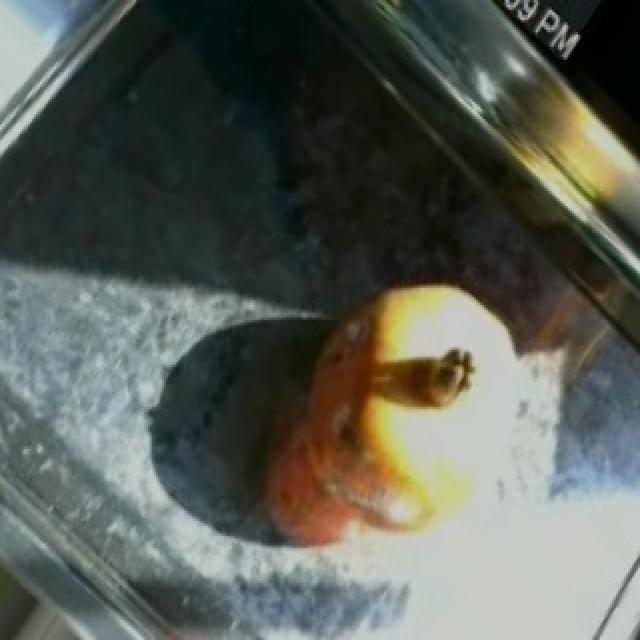fruit: (310, 248, 548, 447)
